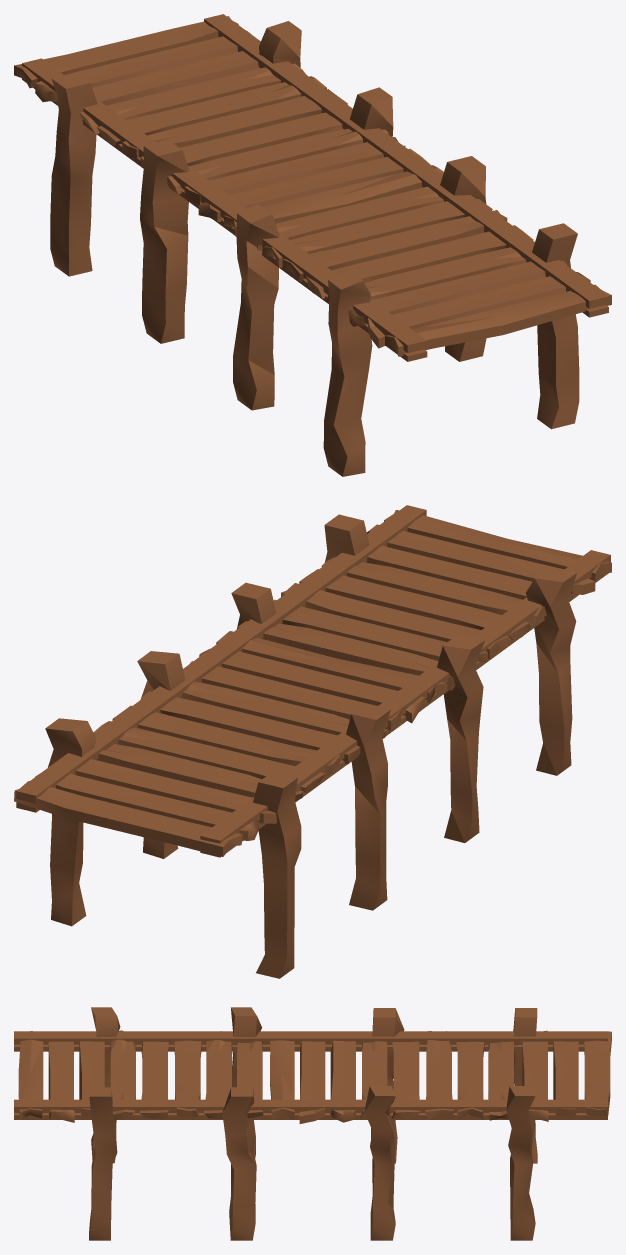
File: dock.fbx
3 renders of one model, top to bottom at view 1: azimuth 30°, elevation 25°; view 2: azimuth 150°, elevation 25°; view 3: azimuth 270°, elevation 25°, orthographic. The views are drawn at different scales.
Visible parts, largest first — view 1: Deck; view 2: Deck; view 3: Deck.
Part boxes in pixels (x1,y1,x2,y2): Deck: (14,14,611,476); Deck: (14,505,611,978); Deck: (14,1007,611,1240).
Size of the model in its own units: 6.47 by 4.9 by 18.06.
